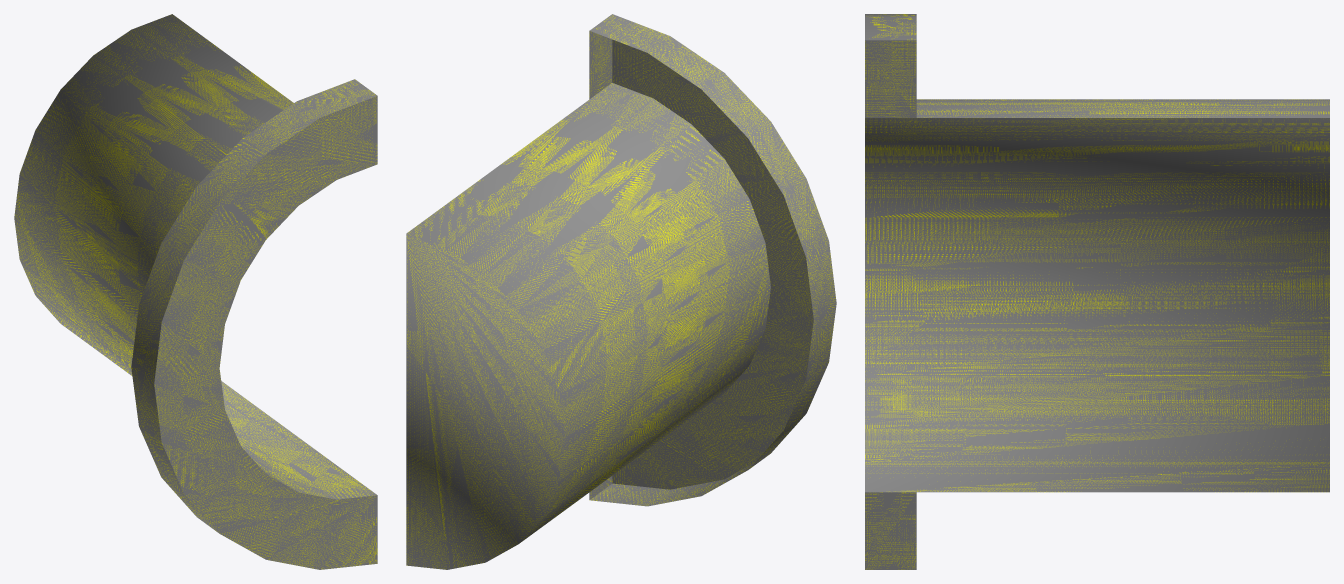
The model's file is original-6.obj.
The picture shows the model from 3 angles, left to right: view 1: azimuth 30°, elevation 25°; view 2: azimuth 150°, elevation 25°; view 3: azimuth 270°, elevation 25°; orthographic projection. The views are drawn at different scales.
Parts seen in each view (by area): view 1: #ID55; view 2: #ID55; view 3: #ID55.
Boxes of the visible parts, bbox=[...] form: #ID55: bbox=[14, 14, 377, 569]; #ID55: bbox=[406, 14, 836, 569]; #ID55: bbox=[865, 14, 1329, 569].
Bounding box in the file's own units: 0.02 × 0.0401 × 0.0319.
